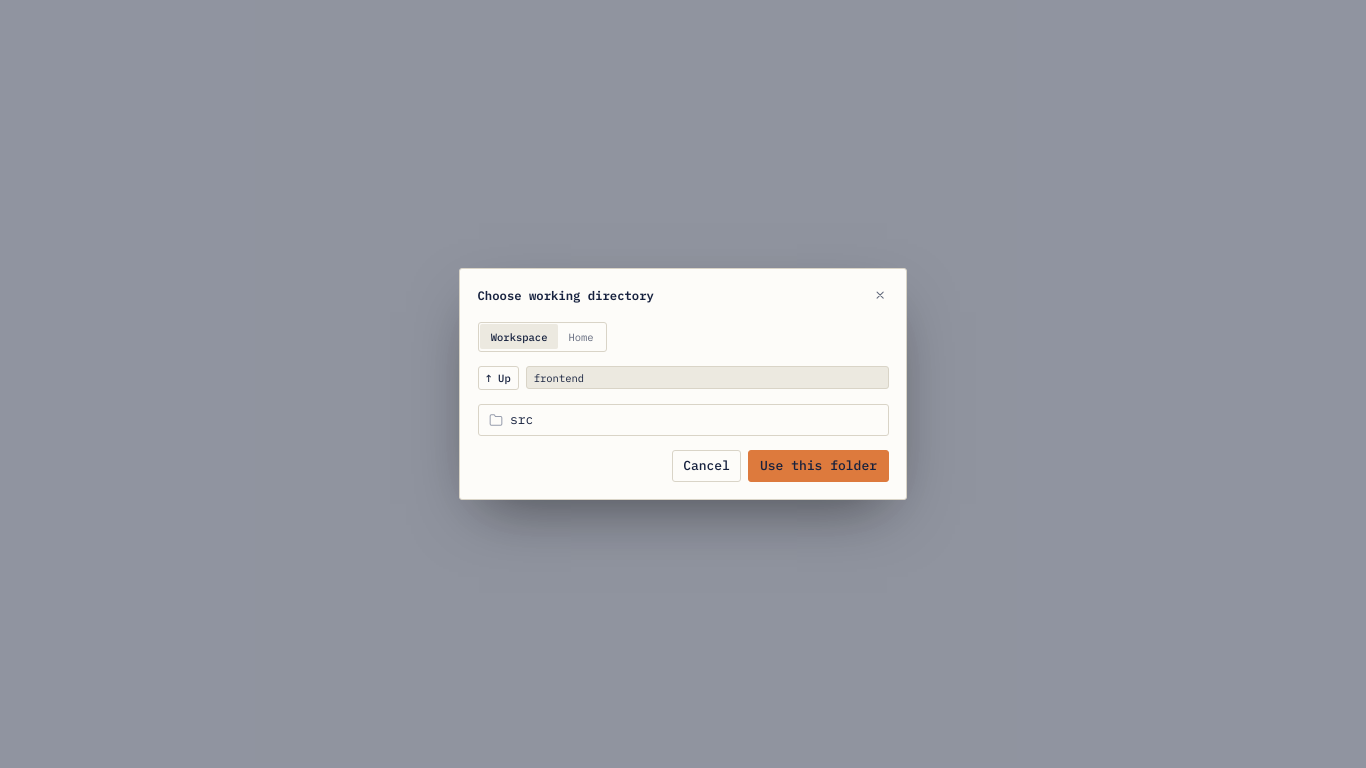
Scenario: DirectoryPicker › goes up one level to the reported parent
Click the button "↑ Up". click: (498, 378)
box: [478,366,519,390]
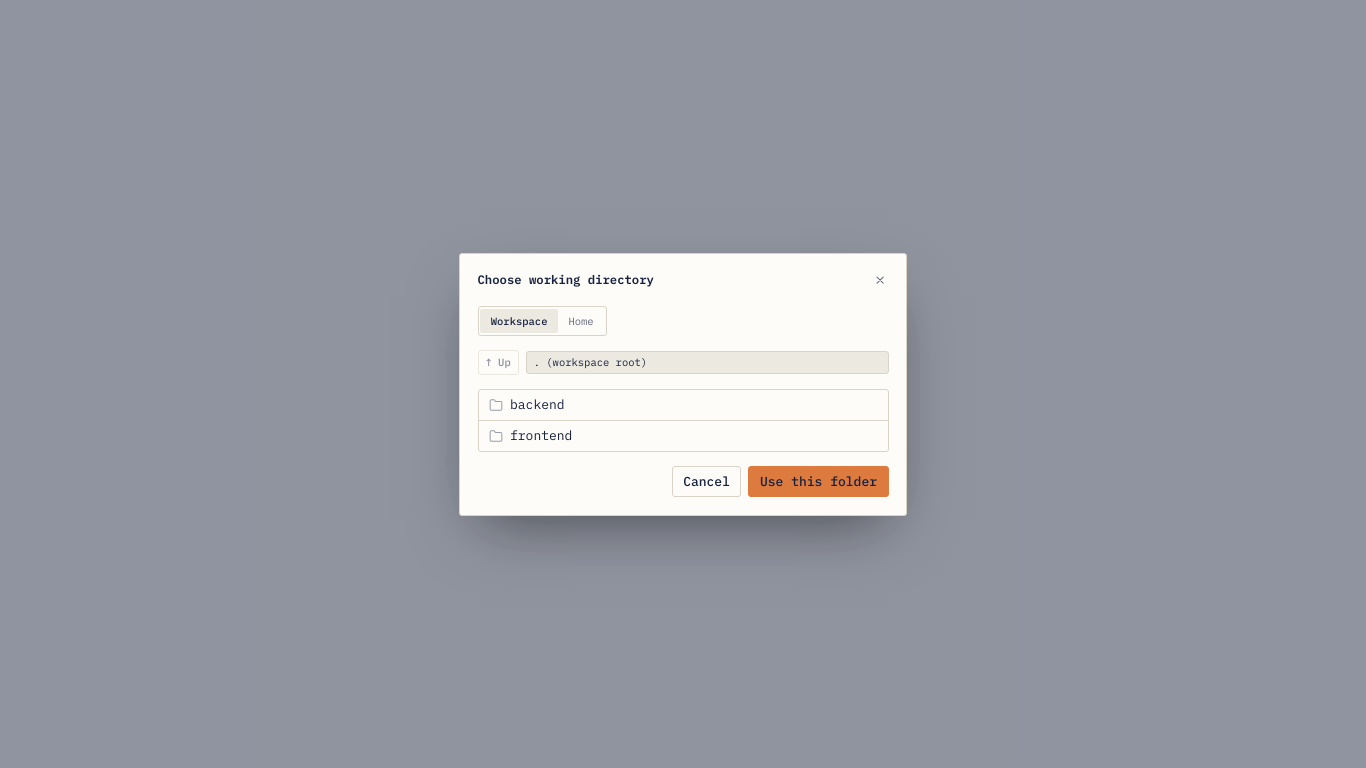
Expected: the text with test id "picker-path" reads ". (workspace root)", [534,355,647,369]
